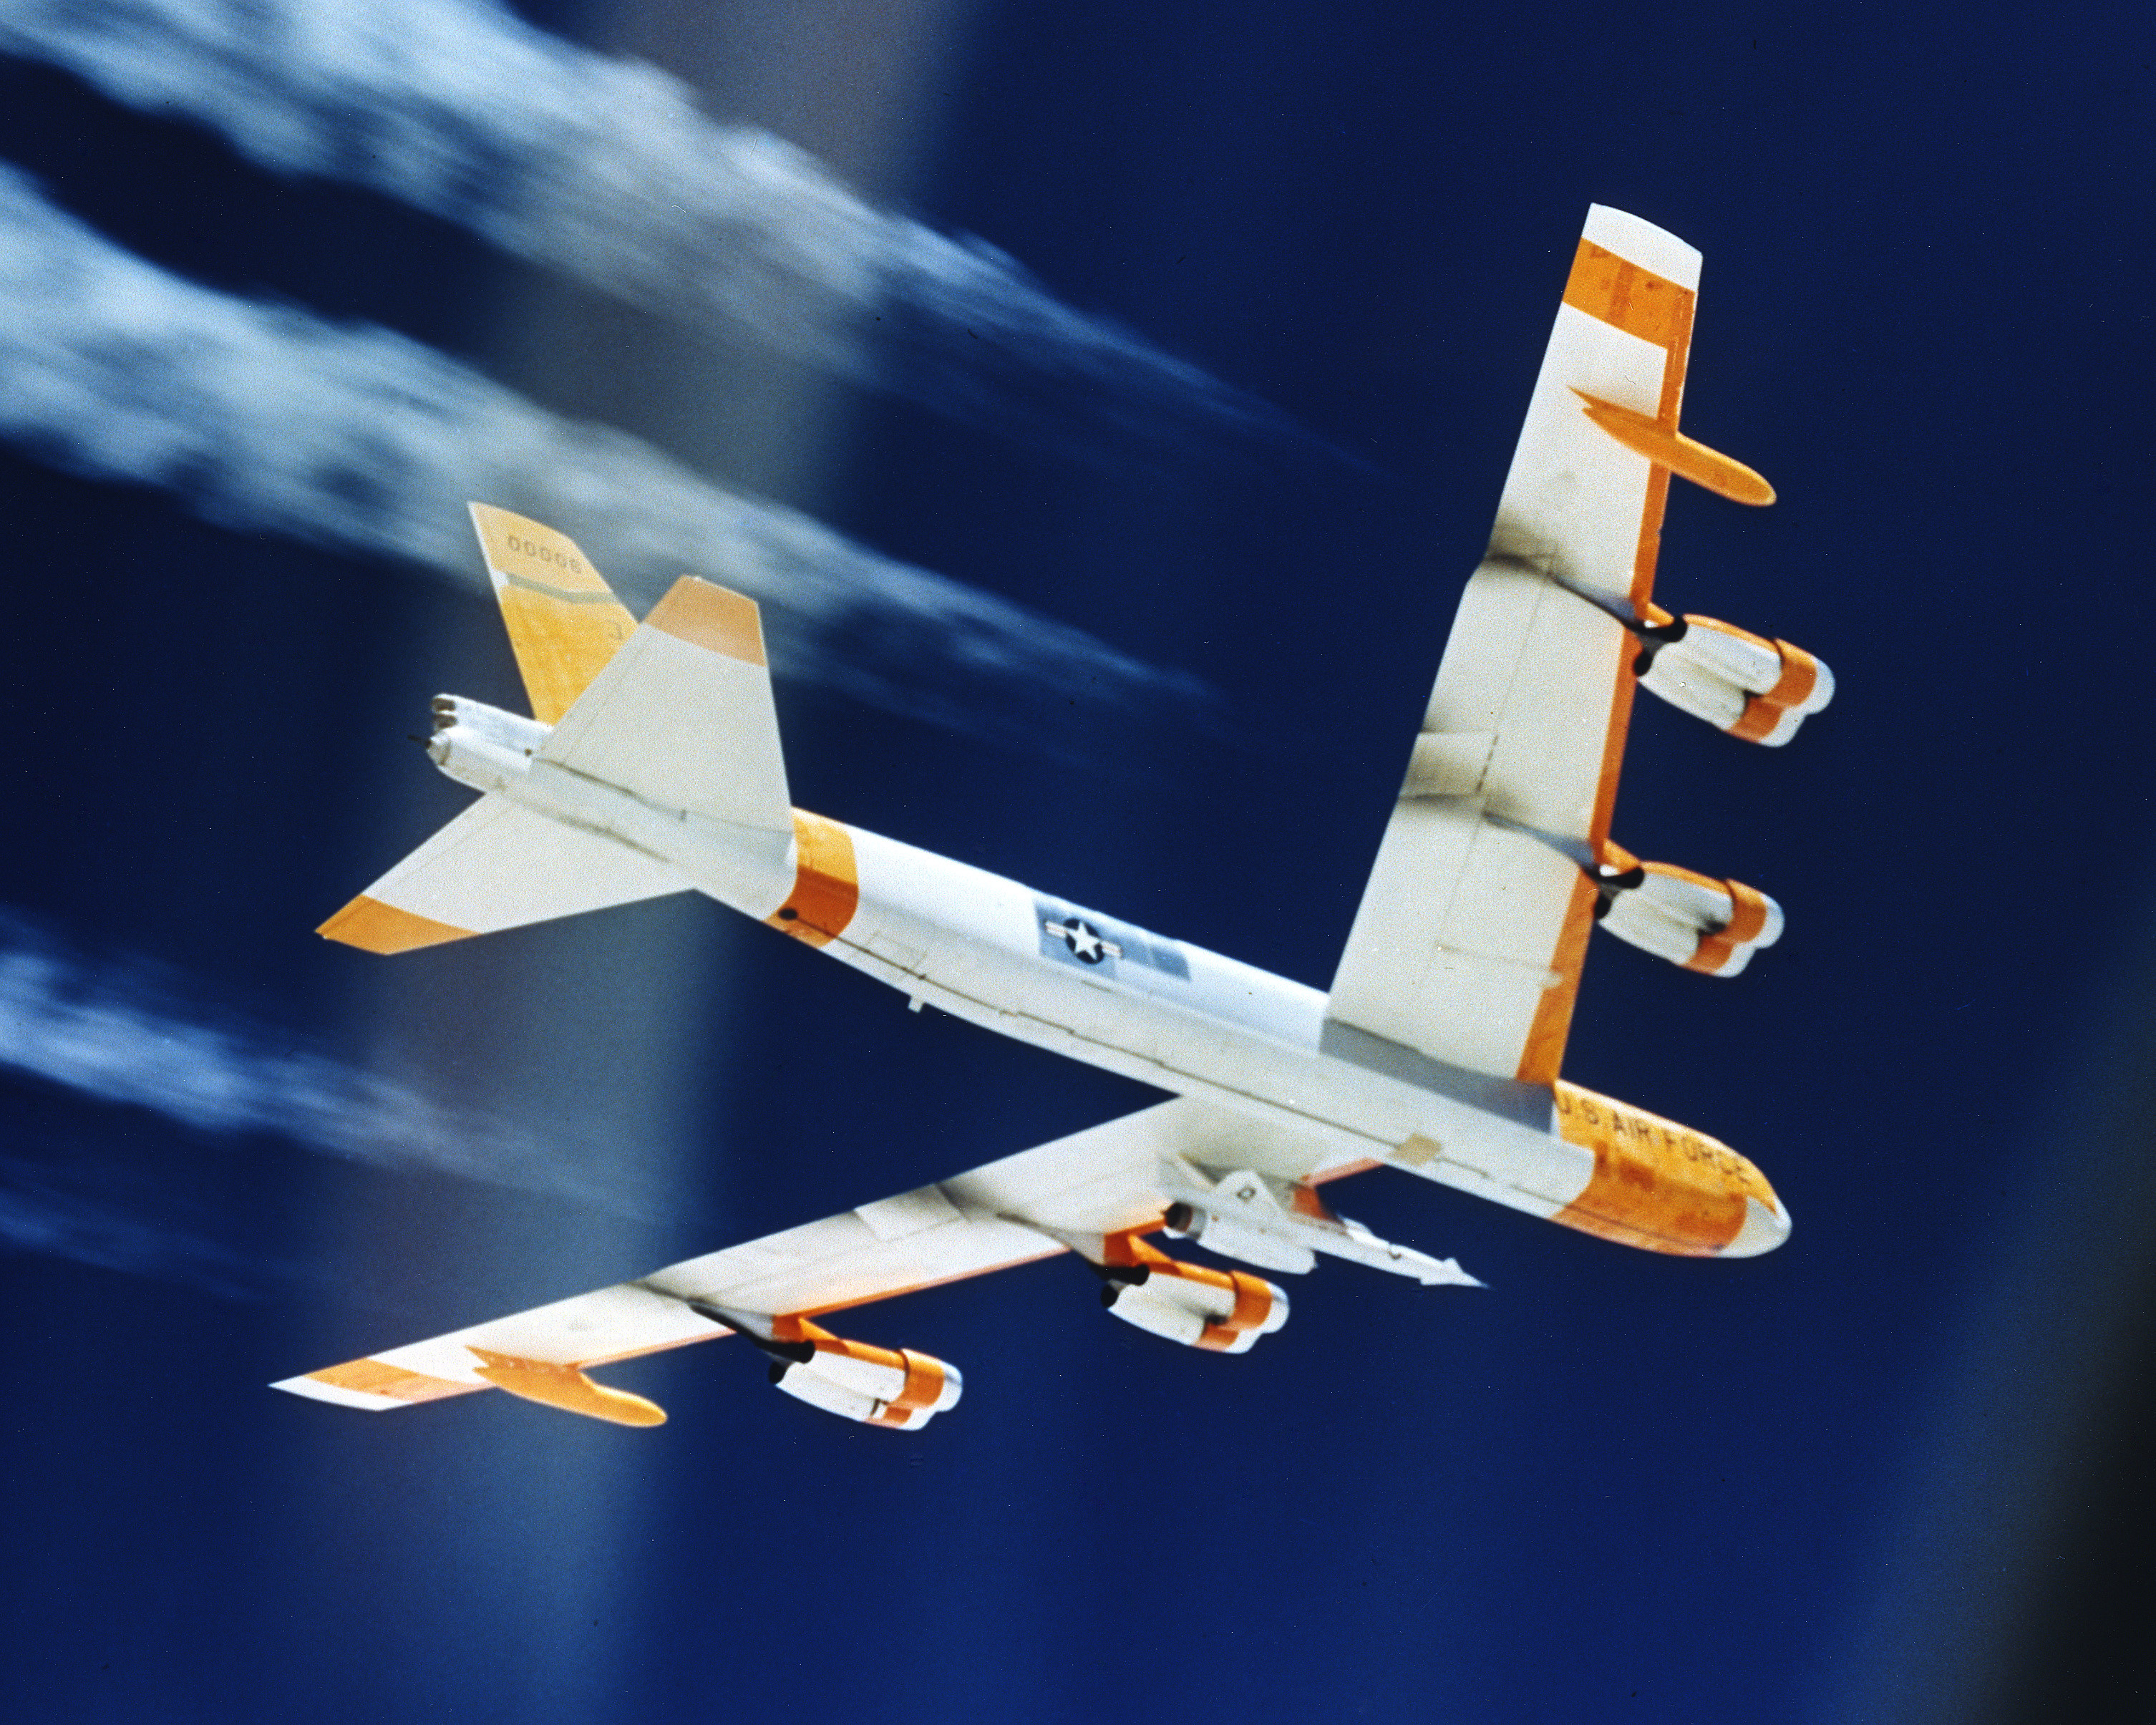B52: (264, 201, 1836, 1431)
